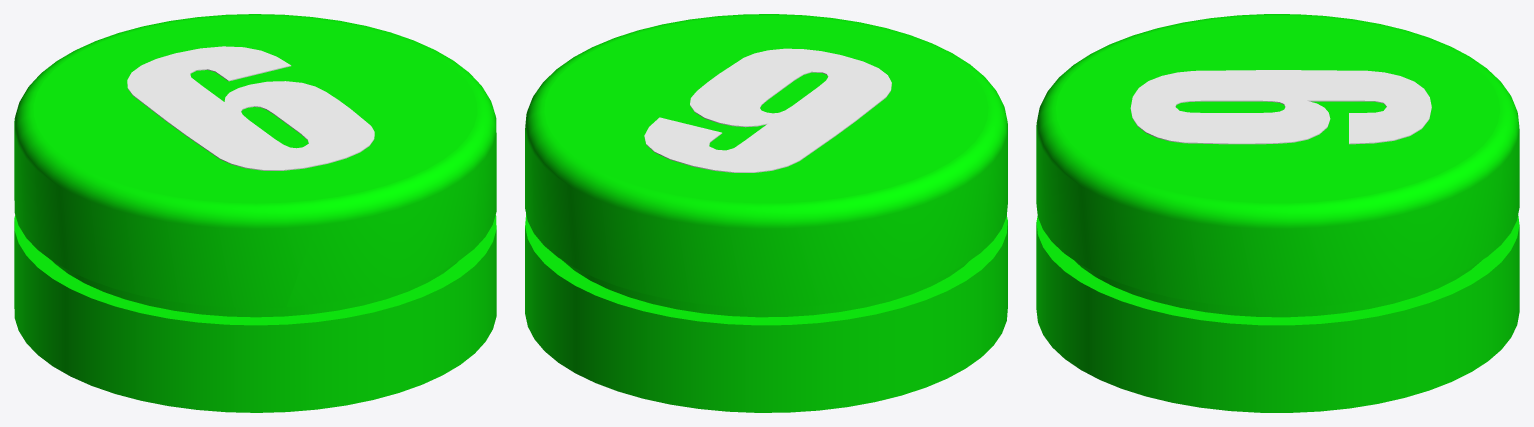
File: nubot_frame6_green.dae
3 views of the same model, side by side, from view 1: azimuth 30°, elevation 25°; view 2: azimuth 150°, elevation 25°; view 3: azimuth 270°, elevation 25° (orthographic).
Visible parts, largest first — view 1: SketchUp (×3), instance_0; view 2: SketchUp (×3), instance_0; view 3: SketchUp (×3), instance_0.
Part boxes in pixels (x1,y1,x2,y2): SketchUp (×3): (14,14,496,412); instance_0: (127,46,374,170); SketchUp (×3): (525,14,1007,412); instance_0: (644,48,891,172); SketchUp (×3): (1036,14,1519,412); instance_0: (1130,70,1431,144).
Size of the model in its own units: 19.66 by 19.68 by 9.09.
